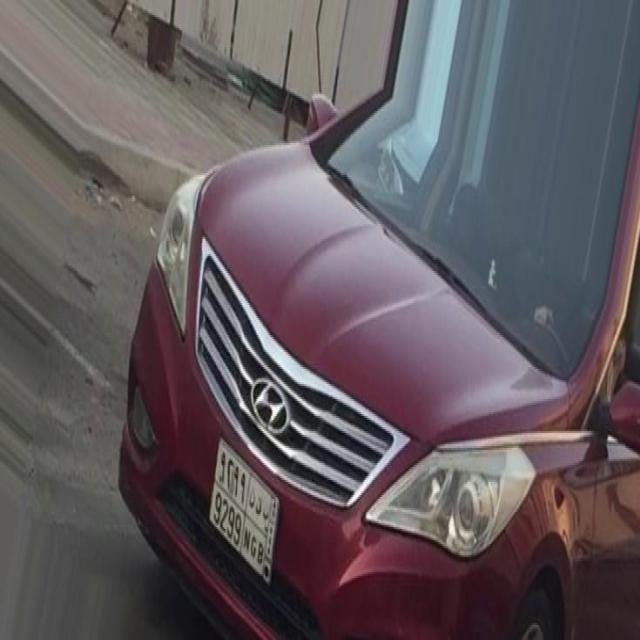Car-plate: (203, 422, 288, 596)
